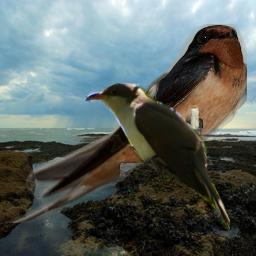Cuckoo: (82, 83, 230, 231)
Swallow: (3, 24, 247, 223)
